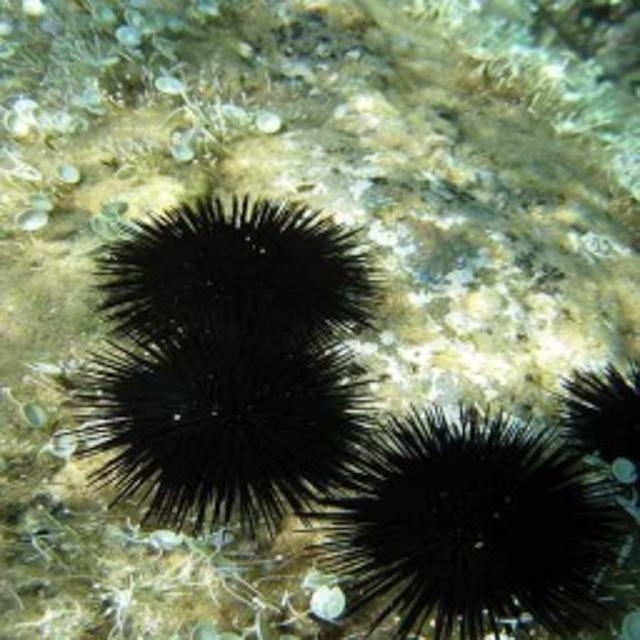Urchin: (60, 347, 380, 524), (343, 419, 593, 625), (341, 417, 591, 623), (95, 182, 386, 358), (546, 344, 640, 475)
